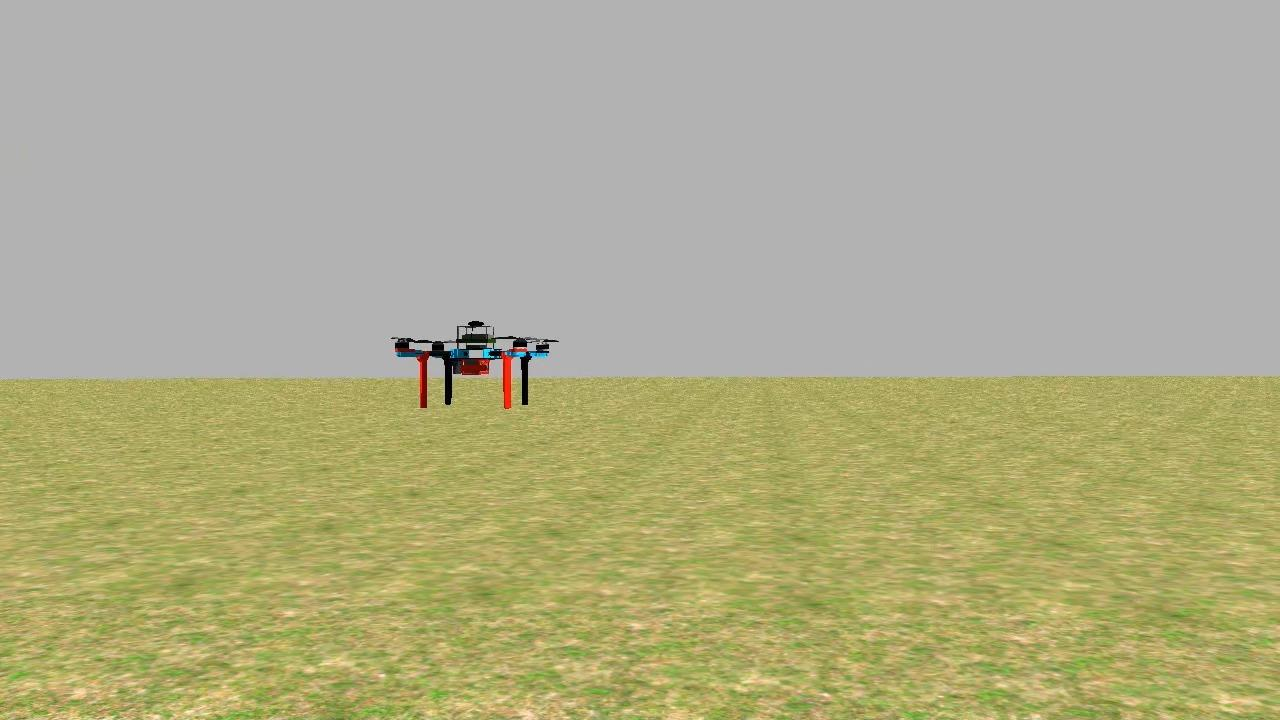UAV: (383, 298, 559, 427)
